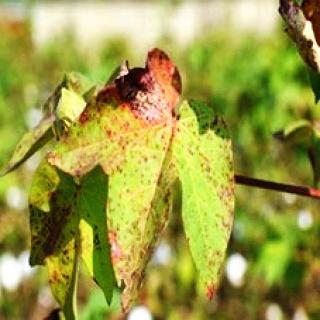leaf spot: (27, 44, 237, 311)
